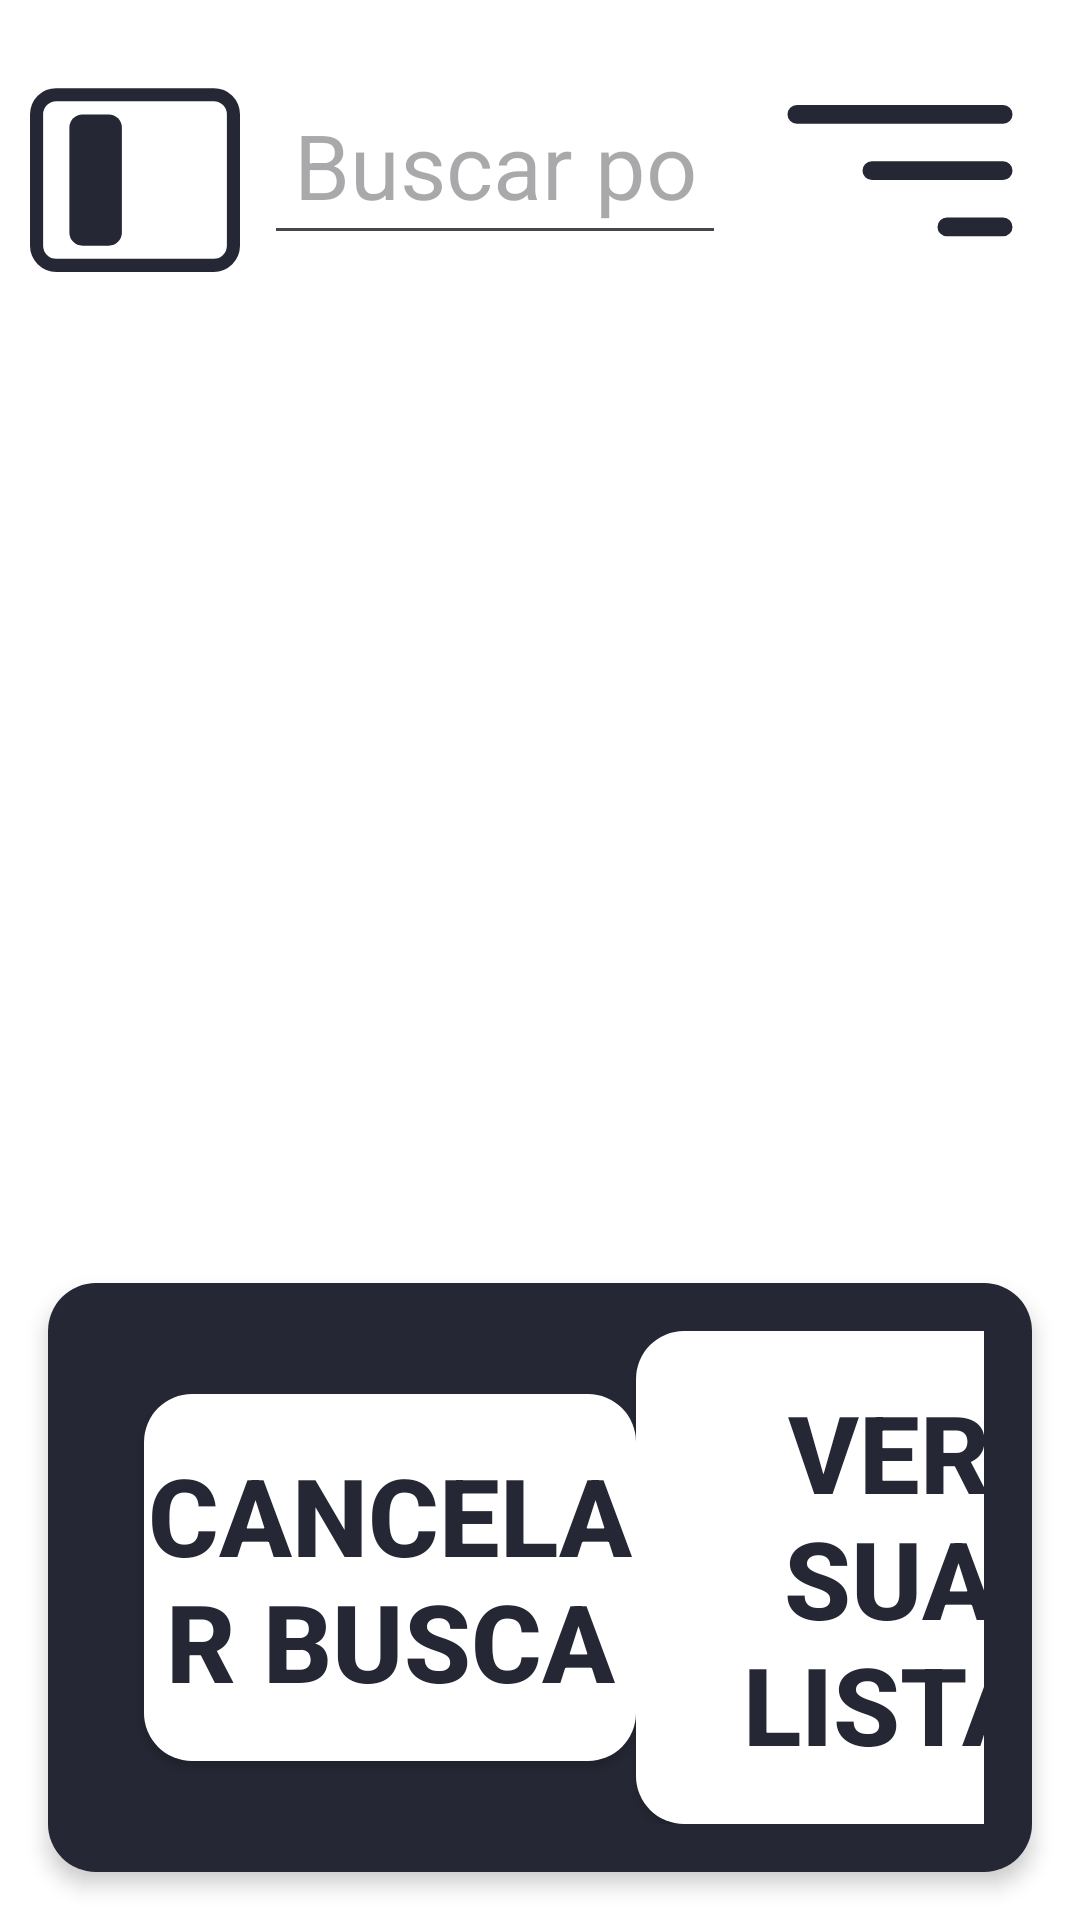

Icon click points for this 1080x1920 phone screenshot, format (x,y):
list tipos: (900,171)
sidebar: (135,180)
